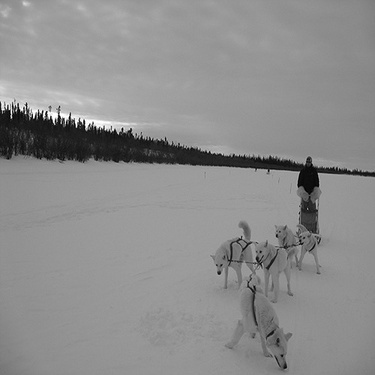dog: (214, 273, 297, 373), (198, 212, 267, 300), (244, 240, 306, 309), (277, 218, 333, 280), (263, 219, 307, 278)
